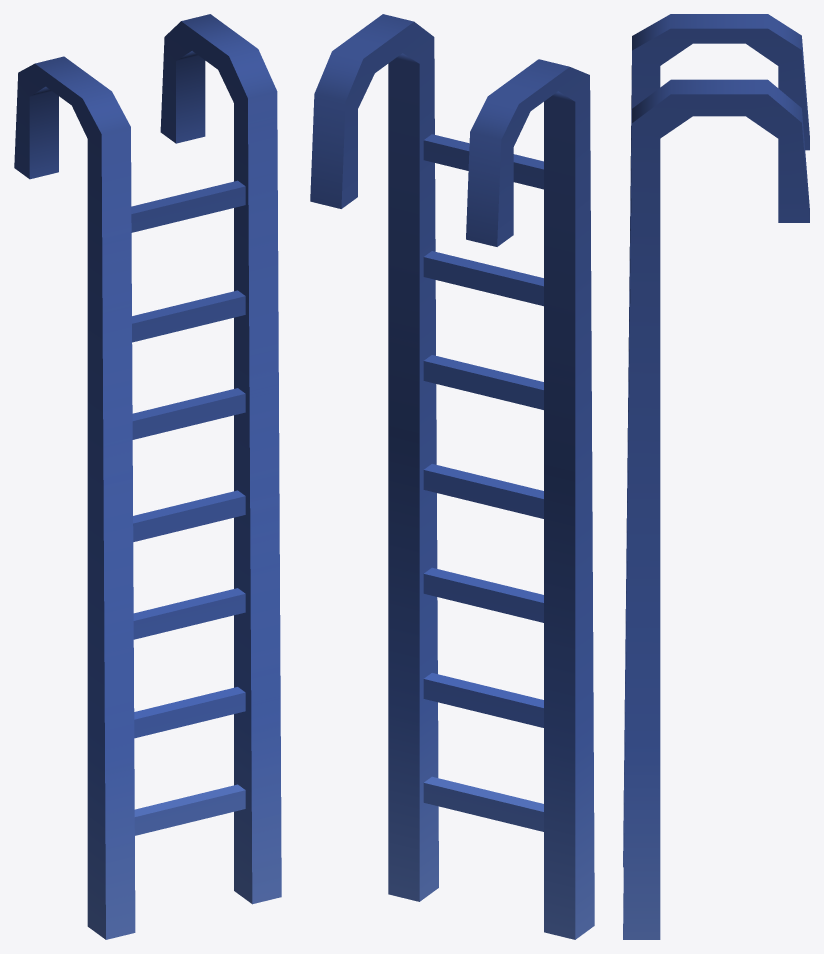
The model's file is Ladder_1_E.fbx.
3 views of the same model, side by side, from view 1: azimuth 30°, elevation 25°; view 2: azimuth 150°, elevation 25°; view 3: azimuth 270°, elevation 25° (orthographic). The views are drawn at different scales.
Parts seen in each view (by area): view 1: Ladder_1_E; view 2: Ladder_1_E; view 3: Ladder_1_E.
Part boxes in pixels (x1,y1,x2,y2): Ladder_1_E: [14, 14, 281, 939]; Ladder_1_E: [310, 14, 594, 939]; Ladder_1_E: [623, 14, 809, 939].
Bounding box in the file's own units: 65.17 × 295 × 58.95.
